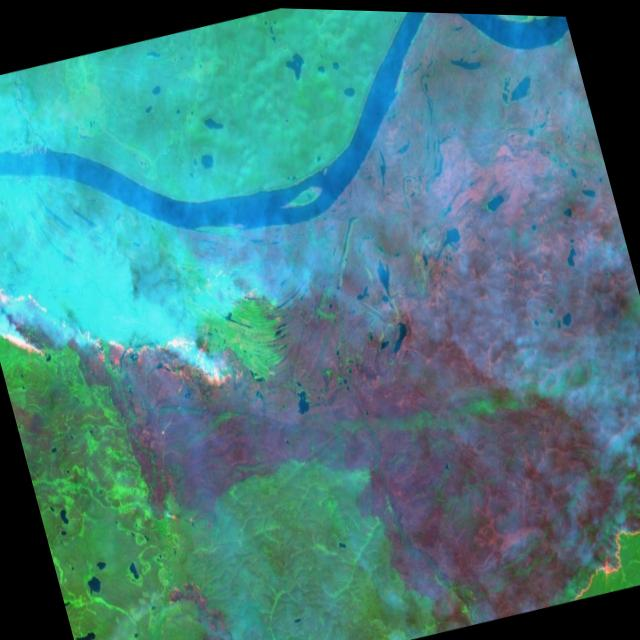fire: (0, 225, 239, 443), (535, 428, 640, 598)
